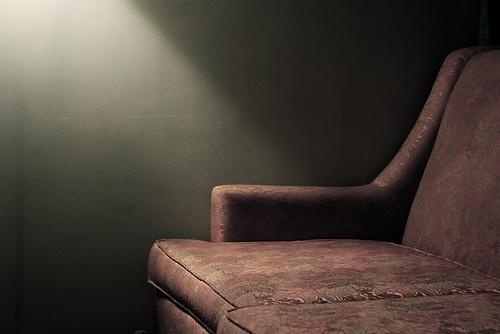sofa: (123, 35, 500, 334)
